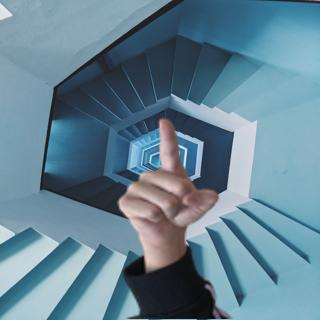IRRITATED: (113, 116, 221, 239)
